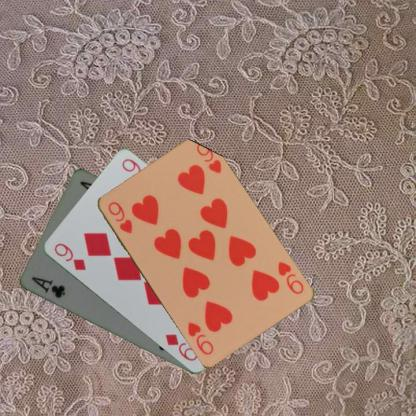9d: (50, 240, 87, 272)
9h: (274, 258, 304, 296), (104, 199, 134, 235)
Ac: (28, 274, 67, 300)
